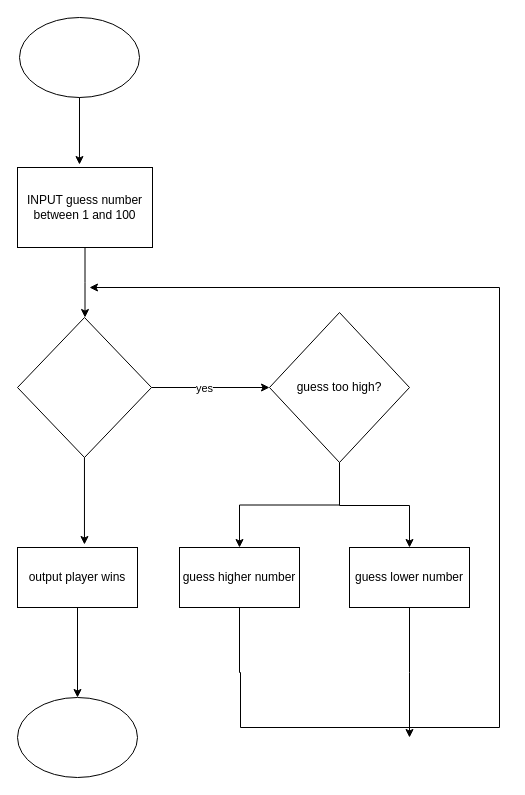
This 525x795 diagram has some shape labels left out. Here are the shapes that lost their labels. From the top down, the box of each, then its label:
(18, 16, 140, 98): Start
(16, 316, 152, 458): Guess not correct?
(16, 696, 138, 778): end
